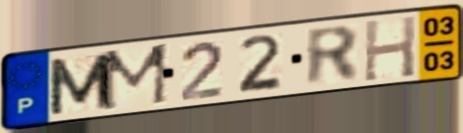2: (236, 32, 286, 97), (178, 39, 227, 103)
H: (361, 13, 419, 84)
M: (99, 41, 173, 115), (46, 51, 113, 118)
R: (304, 23, 363, 89)
